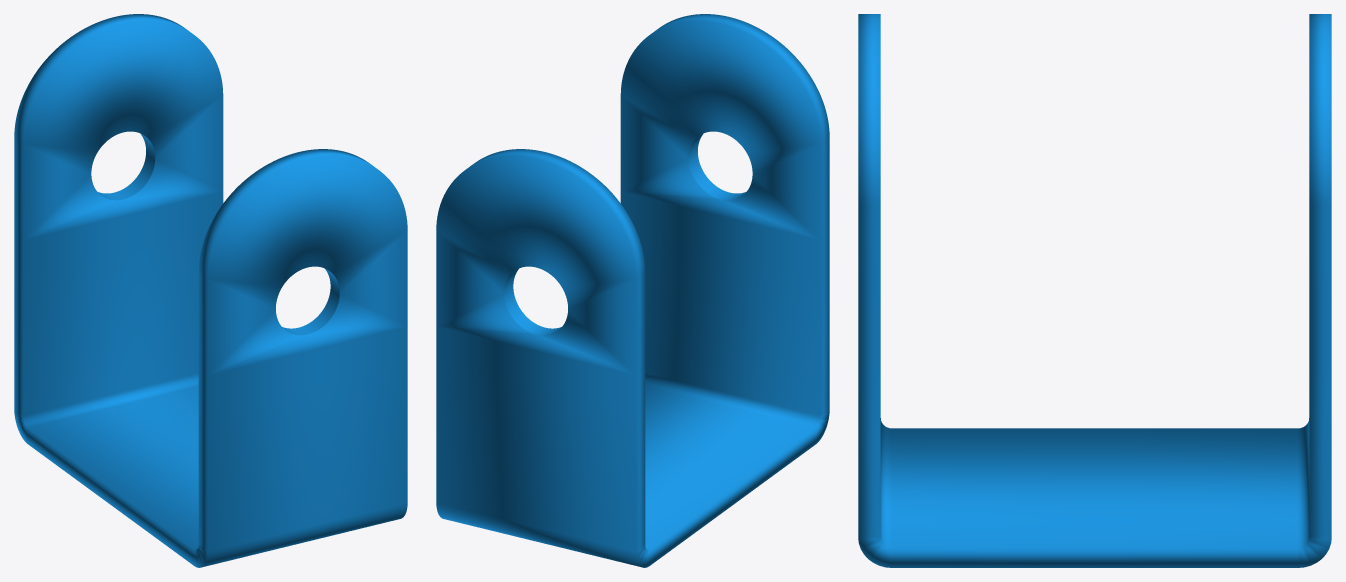
Rendered from upperarm_small_metal_part.dae.
3 renders of one model, left to right at view 1: azimuth 30°, elevation 25°; view 2: azimuth 150°, elevation 25°; view 3: azimuth 270°, elevation 25°, orthographic. The views are drawn at different scales.
Parts seen in each view (by area): view 1: upperarm_small_metal_part; view 2: upperarm_small_metal_part; view 3: upperarm_small_metal_part.
Boxes of the visible parts, x1,y1,x2,y2 form: upperarm_small_metal_part: (14,14,407,567); upperarm_small_metal_part: (436,14,829,567); upperarm_small_metal_part: (858,14,1331,567).
Size of the model in its own units: 25 by 42 by 47.
